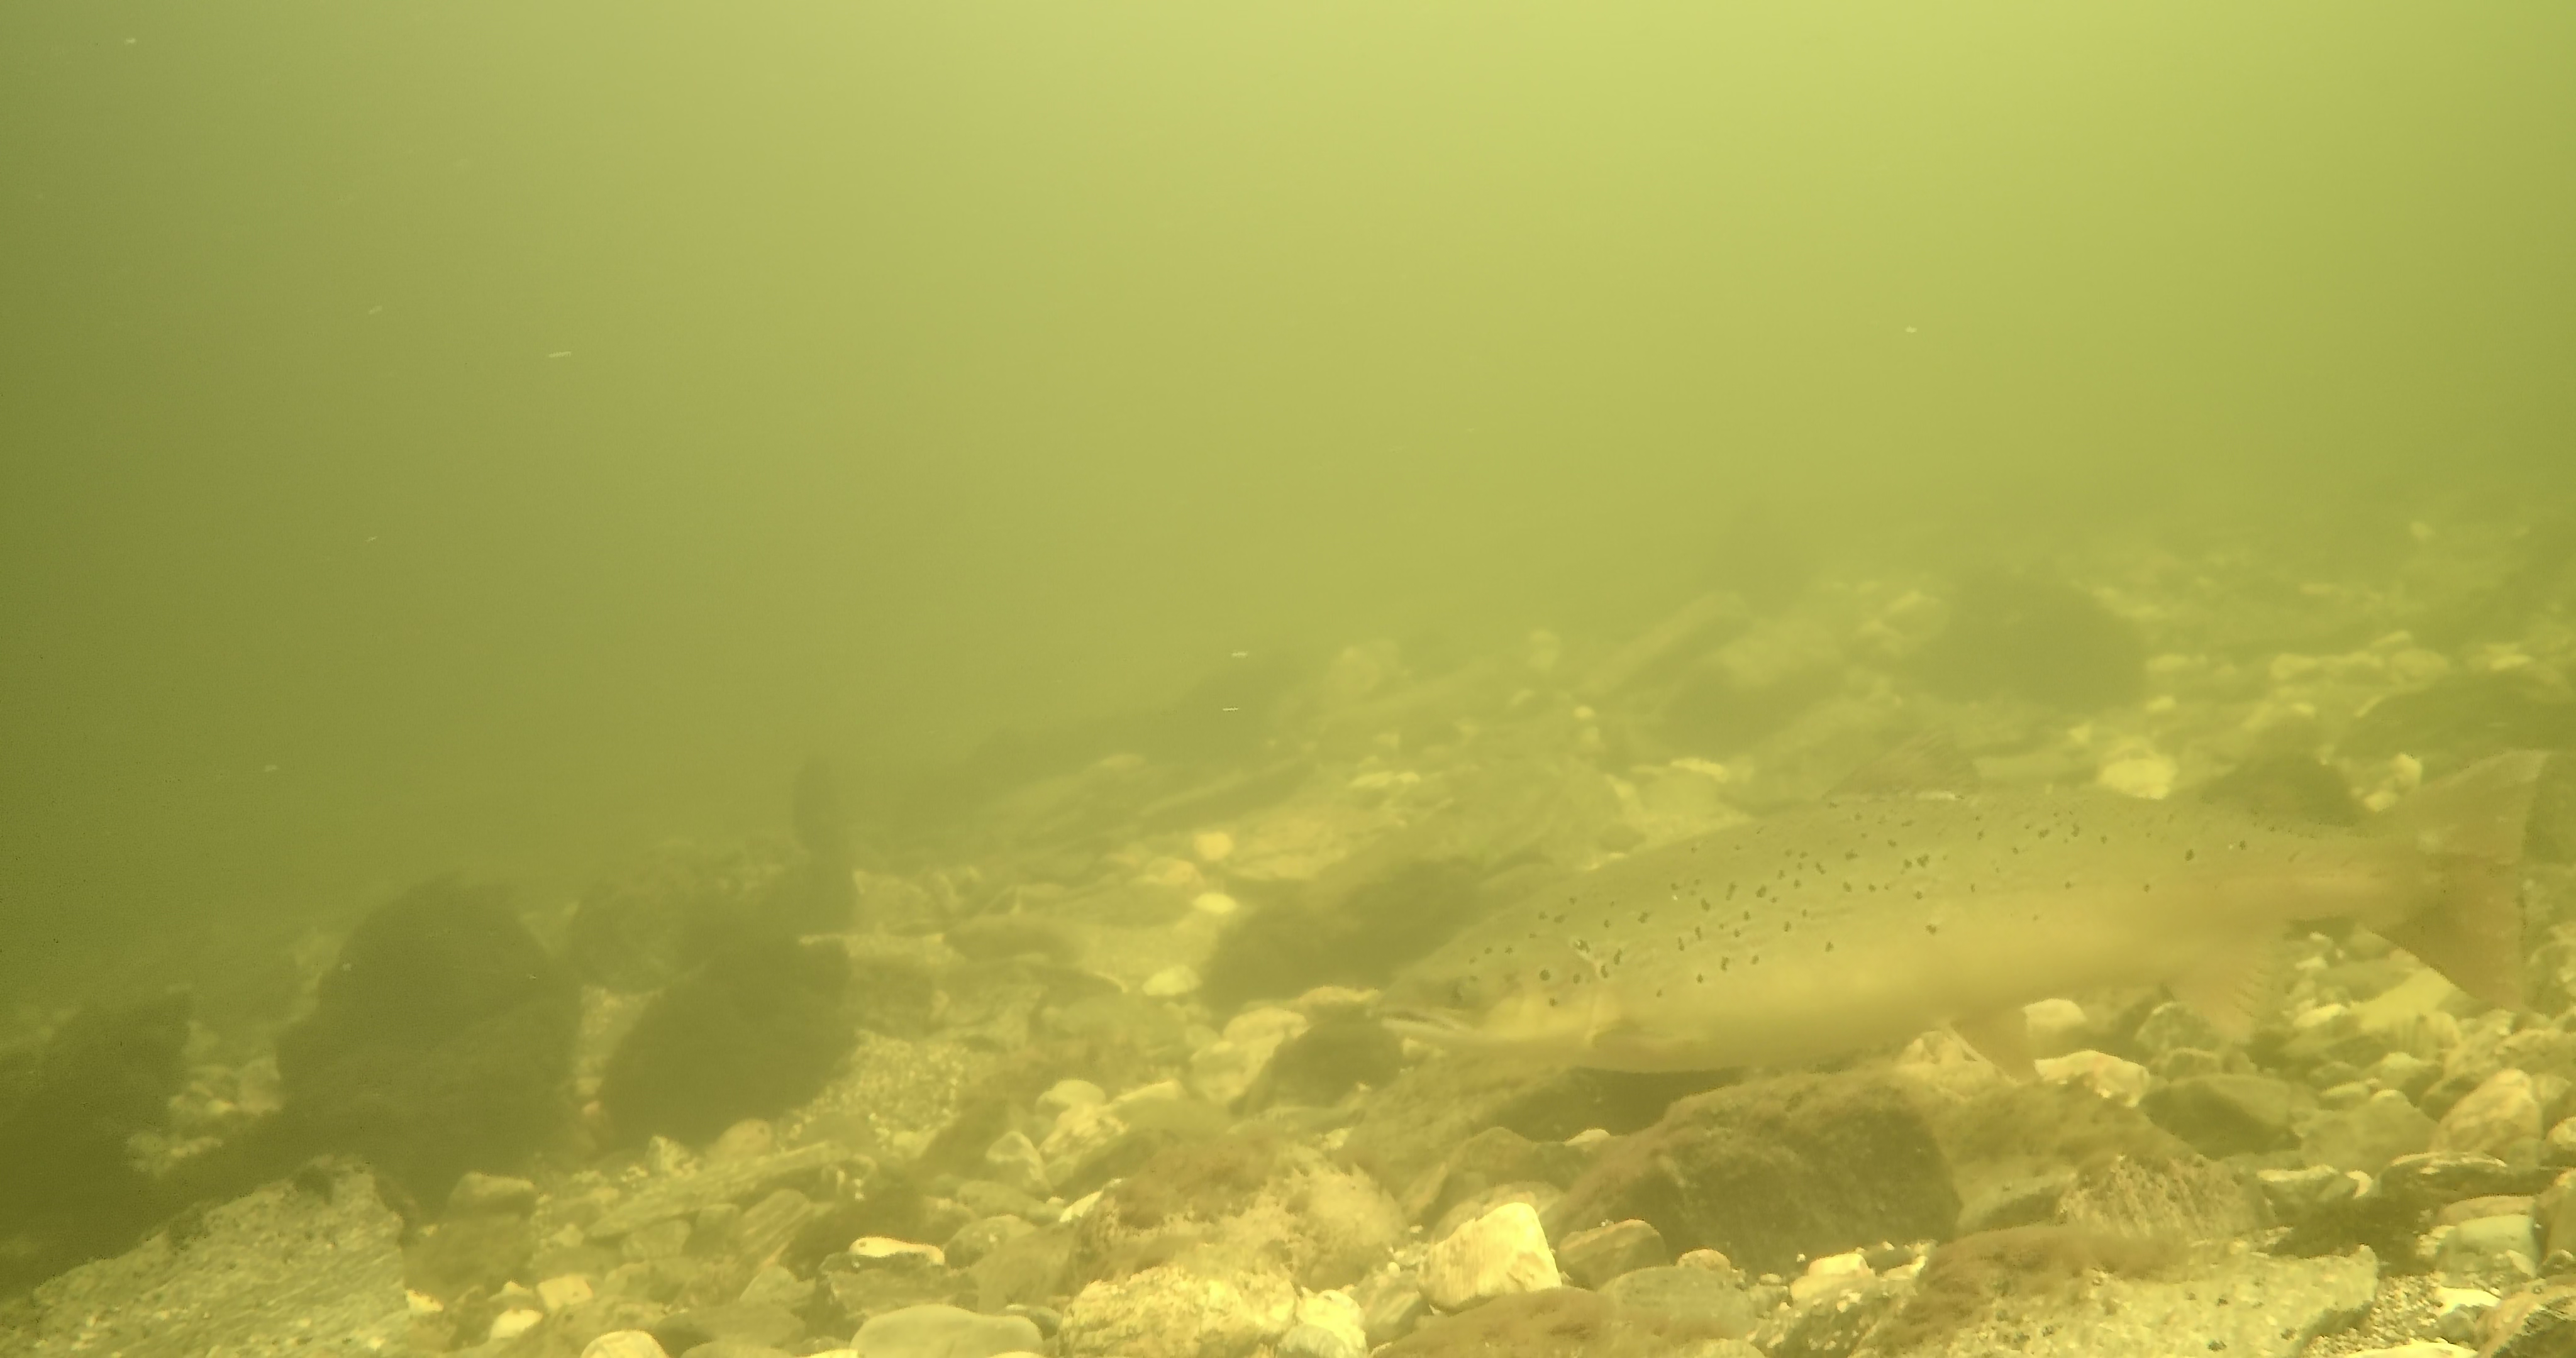salmon: (1368, 716, 2557, 1087)
